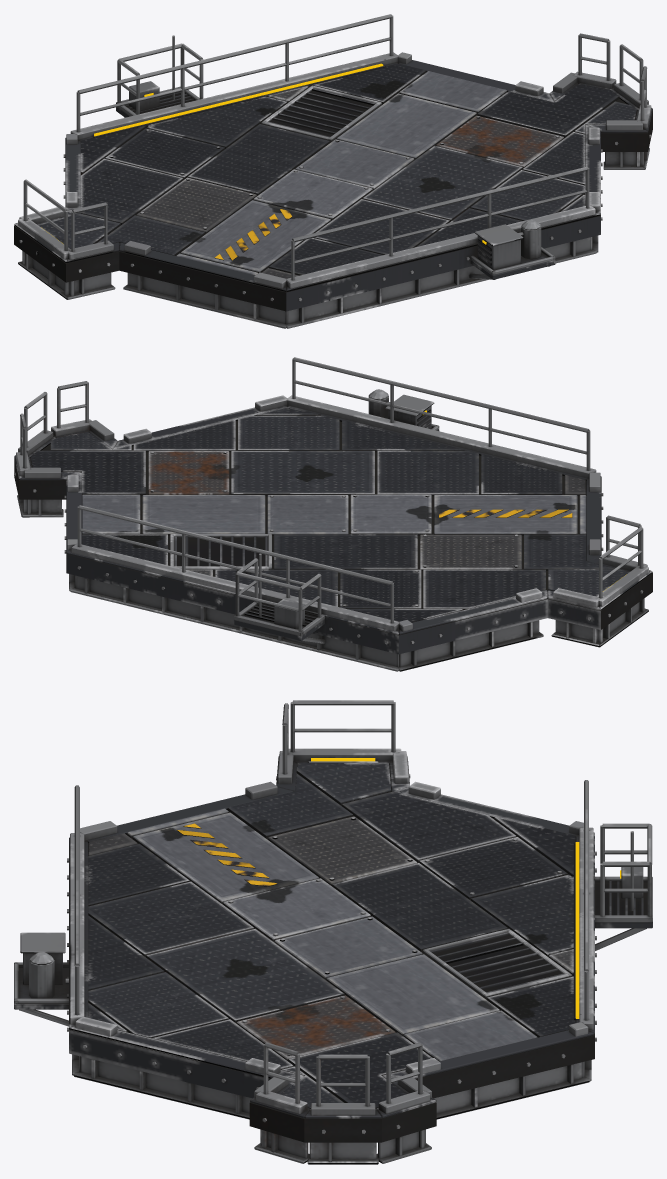
Rendered from nodexeus-set-deck-g.glb.
3 views of the same model, one above another, from view 1: azimuth 30°, elevation 25°; view 2: azimuth 150°, elevation 25°; view 3: azimuth 270°, elevation 25° (orthographic). The views are drawn at different scales.
Parts seen in each view (by area): view 1: set-deck-g; view 2: set-deck-g; view 3: set-deck-g.
Part boxes in pixels (x1=…): set-deck-g: x1=14, y1=14, x2=652, y2=328; set-deck-g: x1=14, y1=357, x2=652, y2=671; set-deck-g: x1=14, y1=700, x2=652, y2=1164.
Bounding box in the file's own units: 13.31 × 2.14 × 9.9.
Materials: 1 (1 with a texture image).
